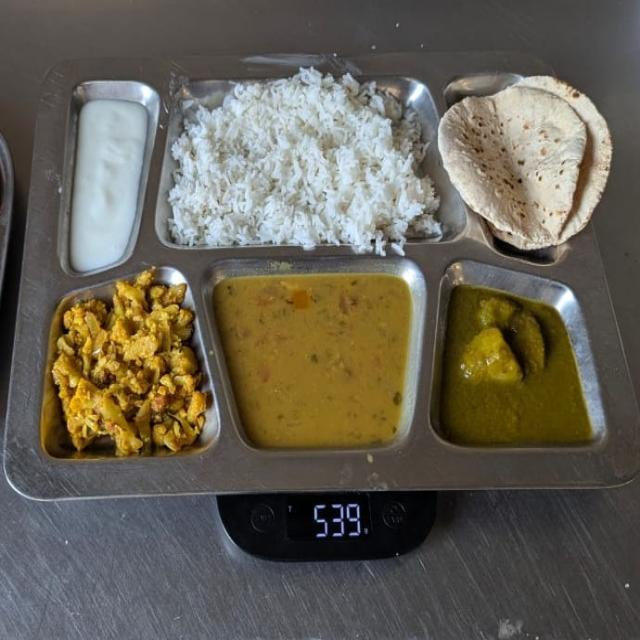Aloo Palak: (432, 284, 604, 451)
Chapati: (441, 74, 615, 249)
Curd: (72, 99, 150, 273)
Dal: (215, 267, 415, 453)
Gobi Sabji: (55, 273, 212, 463)
White Rice: (171, 66, 444, 260)
